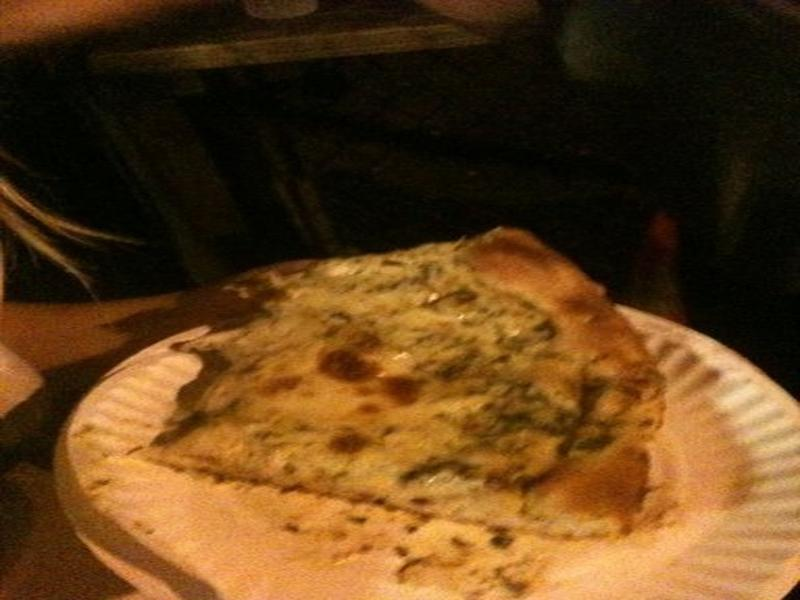pizza: (161, 211, 735, 575)
